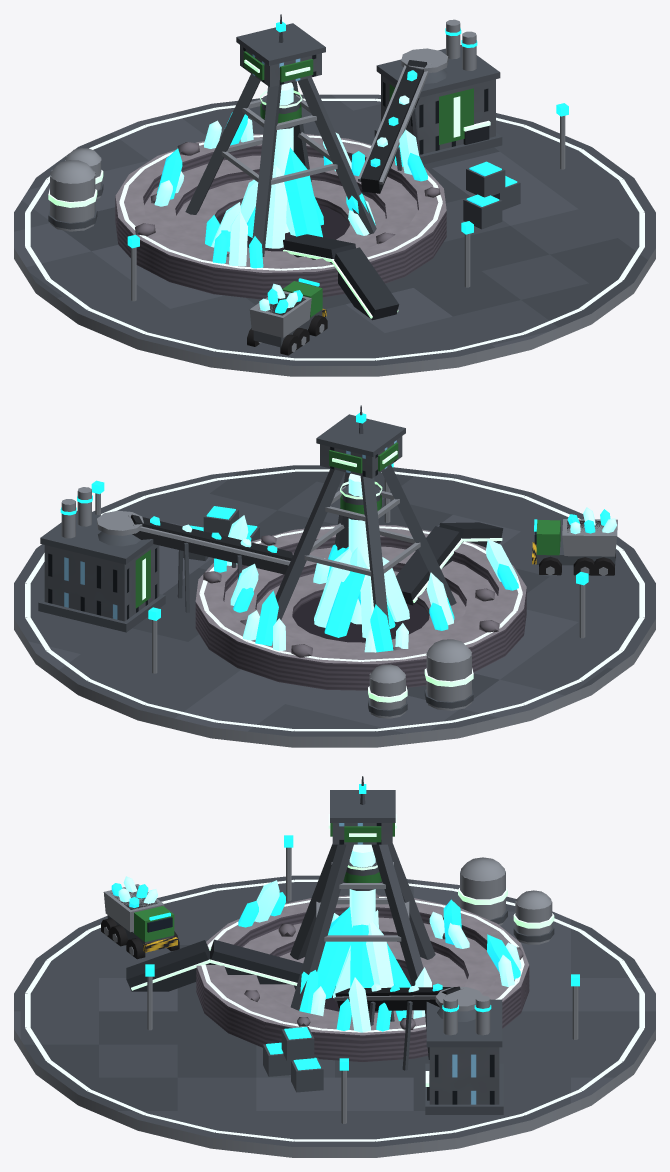
The model's file is mine_scifi_green.glb.
3 views of the same model, one above another, from view 1: azimuth 30°, elevation 25°; view 2: azimuth 150°, elevation 25°; view 3: azimuth 270°, elevation 25° (orthographic).
Visible parts, largest first — view 1: mine_scifi_green; view 2: mine_scifi_green; view 3: mine_scifi_green.
Boxes of the visible parts, x1,y1,x2,y2 form: mine_scifi_green: (14, 14, 655, 376); mine_scifi_green: (14, 405, 655, 747); mine_scifi_green: (14, 776, 655, 1157).
Size of the model in its own units: 1.39 by 0.5409 by 1.39.
6 materials, 1 textured.
